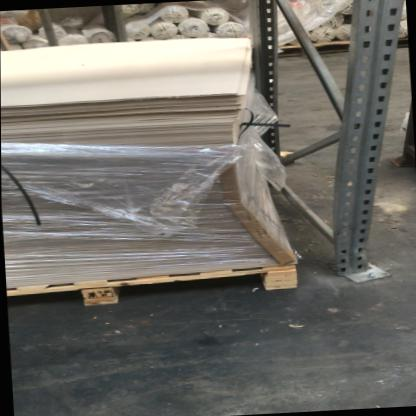vertical_damage: (325, 239, 395, 289)
